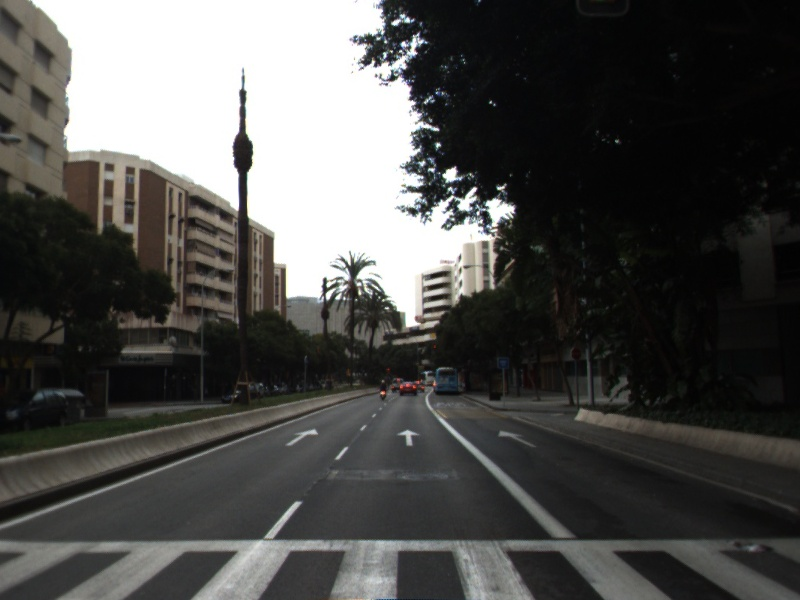STRAIGHT: (496, 428, 539, 449), (283, 426, 320, 448), (395, 427, 422, 448)
